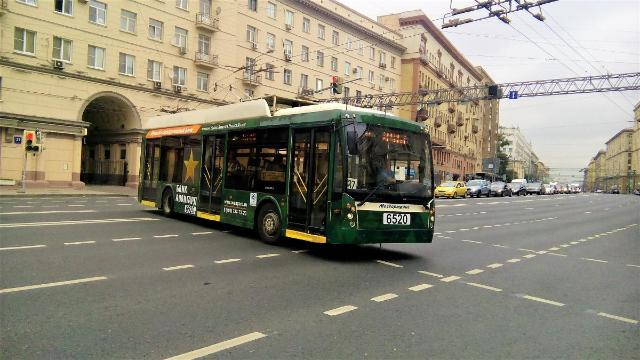bus: (136, 94, 435, 257)
car: (435, 181, 468, 198), (464, 180, 493, 197), (489, 181, 512, 197), (526, 182, 546, 195), (506, 184, 527, 196), (541, 183, 552, 195)
